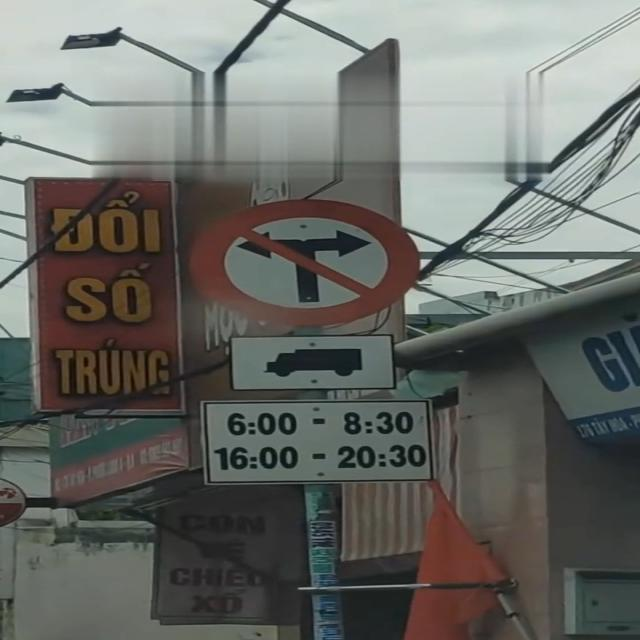137-cam-re-trai-va-re-phai: (190, 201, 416, 327)
